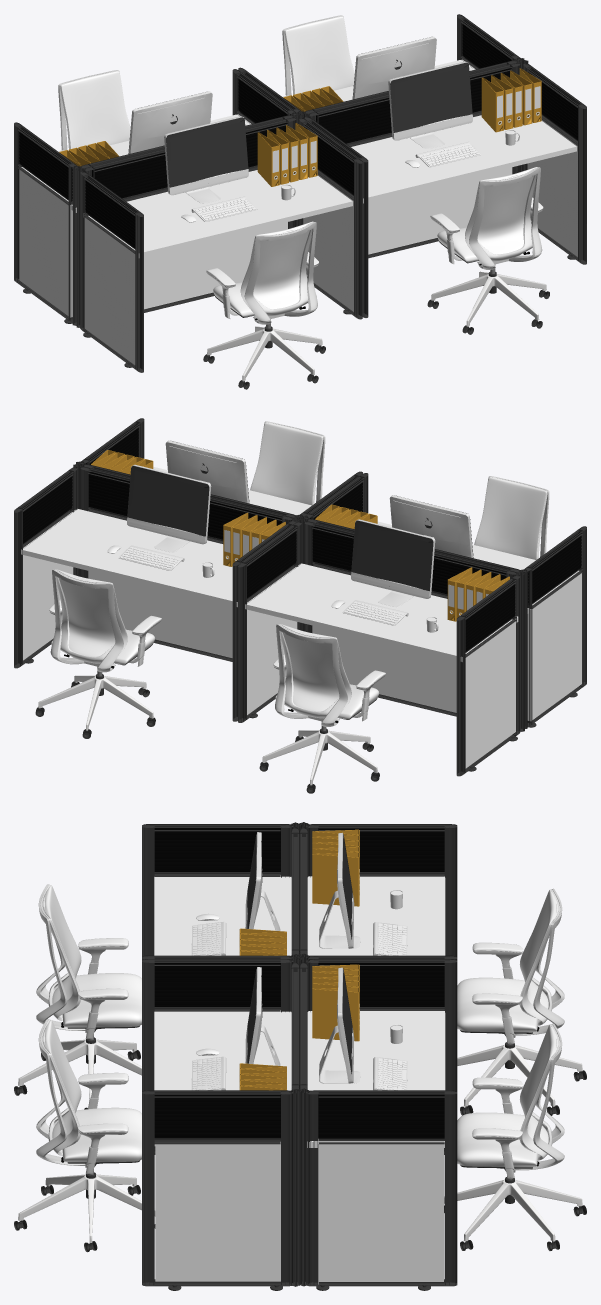
Rendered from desk2.glb.
3 renders of one model, top to bottom at view 1: azimuth 30°, elevation 25°; view 2: azimuth 150°, elevation 25°; view 3: azimuth 270°, elevation 25°, orthographic. The views are drawn at different scales.
Parts seen in each view (by area): view 1: Obj3d66-15960713-2378-179; view 2: Obj3d66-15960713-2378-179; view 3: Obj3d66-15960713-2378-179.
Boxes of the visible parts, box(x1,y1,x2,y2) form: Obj3d66-15960713-2378-179: box(14, 14, 586, 389); Obj3d66-15960713-2378-179: box(14, 418, 586, 793); Obj3d66-15960713-2378-179: box(14, 822, 586, 1290).
Size of the model in its own units: 2.44 by 0.975 by 2.17.
